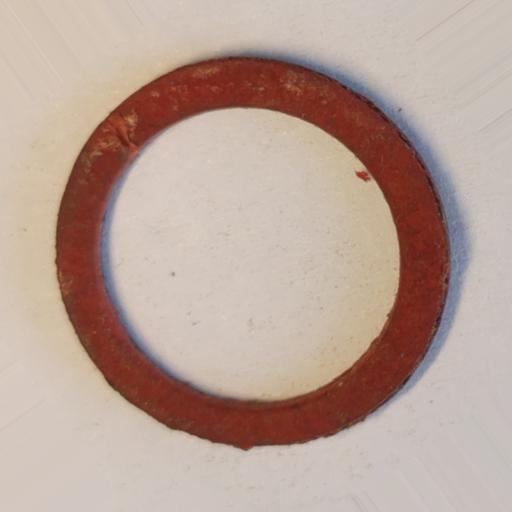defect: (109, 112, 139, 153)
